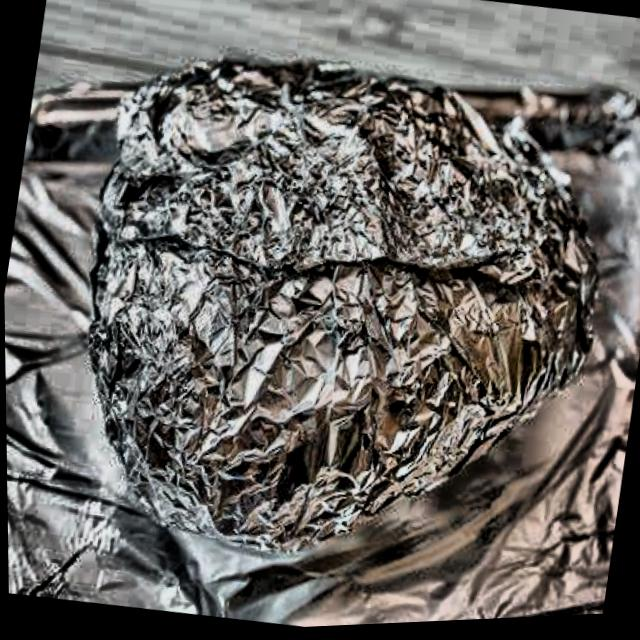Foil: (17, 2, 640, 627)
